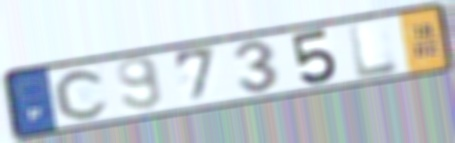3: (232, 38, 283, 96)
5: (289, 27, 339, 86)
7: (172, 44, 219, 105)
9: (115, 56, 166, 116)
C: (52, 67, 113, 122)
L: (346, 21, 402, 81)
